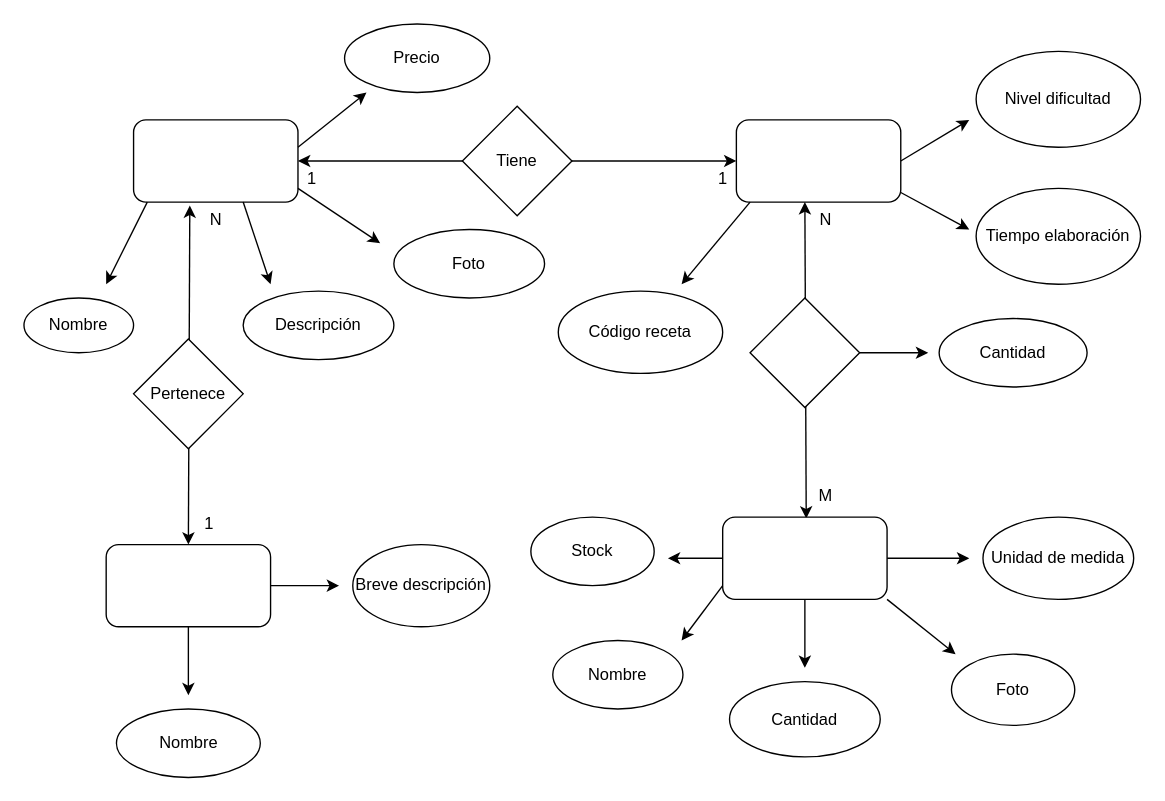
Image size: 1165x801. Some labels were removed from this diagram. The centre of each missing label's shape, as x and y in pixels:
"Categoría" goes at point (188, 585).
"Ingrediente" goes at point (804, 557).
"Plato" goes at point (215, 160).
"Receta" goes at point (818, 160).
"Usa" goes at point (804, 352).
